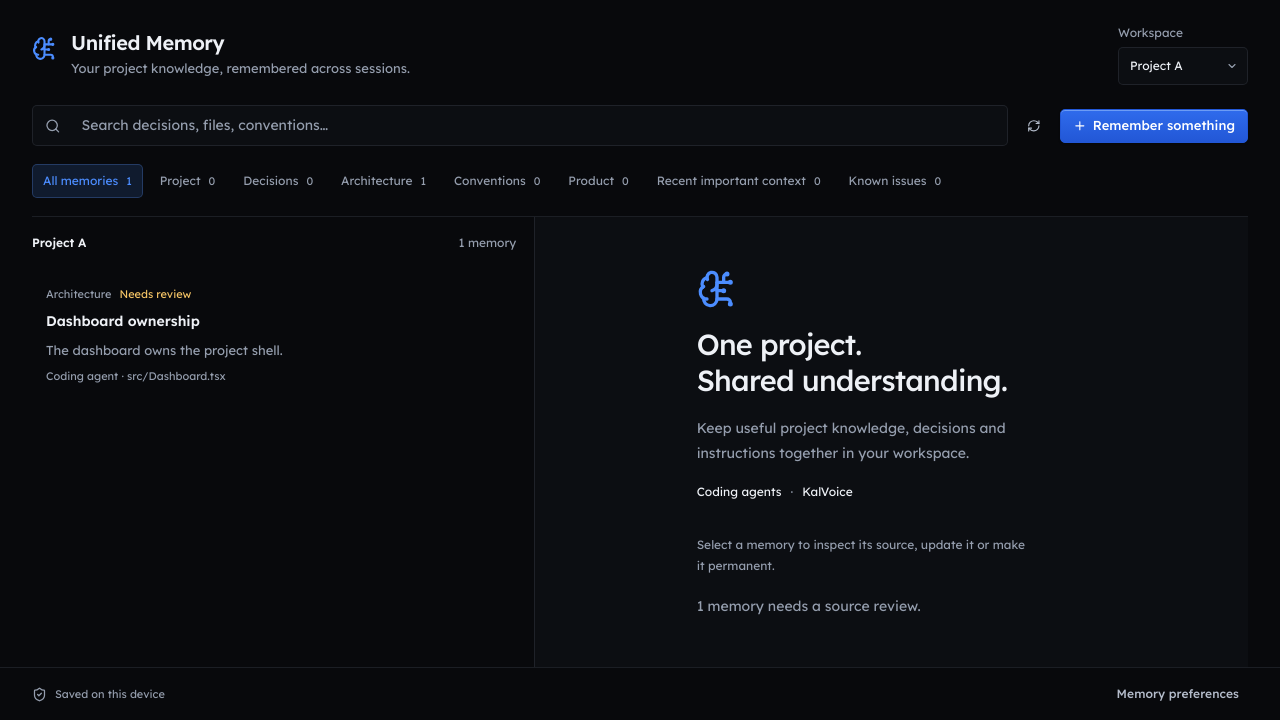
Test case: Unified Memory › explicitly reviews stale knowledge in its workspace and keeps uncertainty on a failed recheck
This screenshot has width=1280, height=720.
Click the button "Dashboard ownership": (79,294) [32,269,518,402]
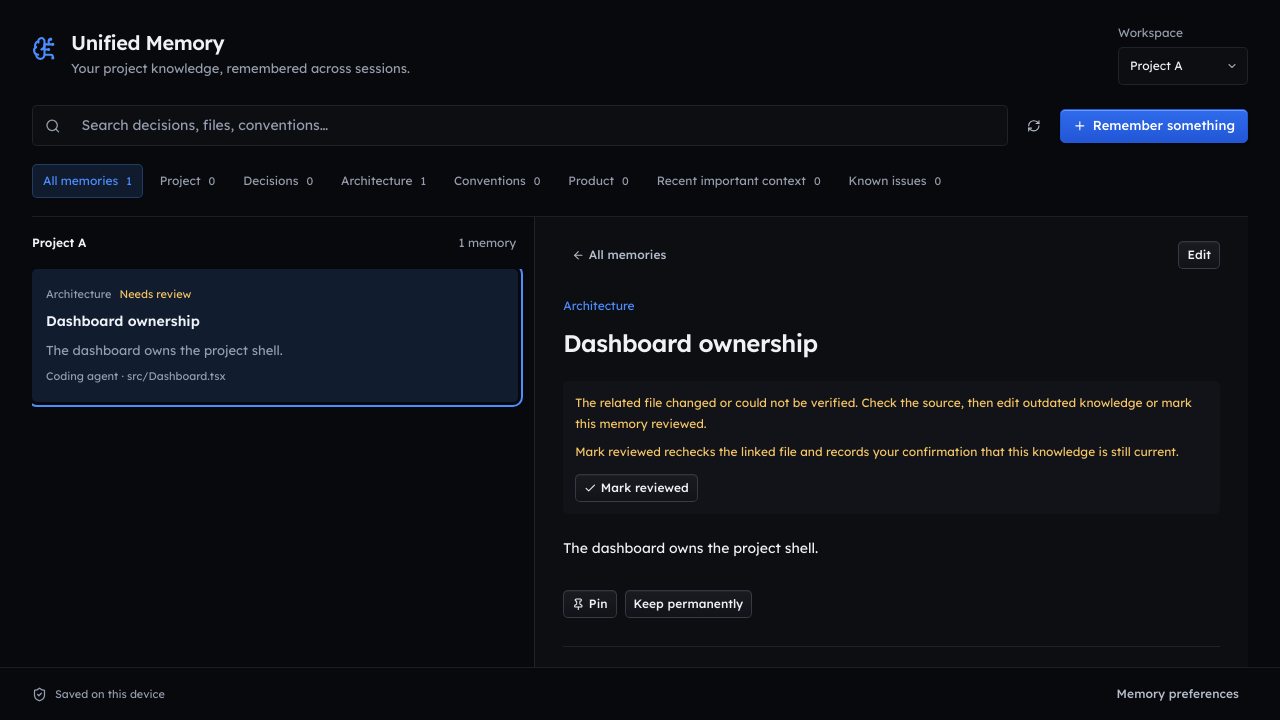
Click the button "Mark reviewed": (637,488) [575,474,698,502]
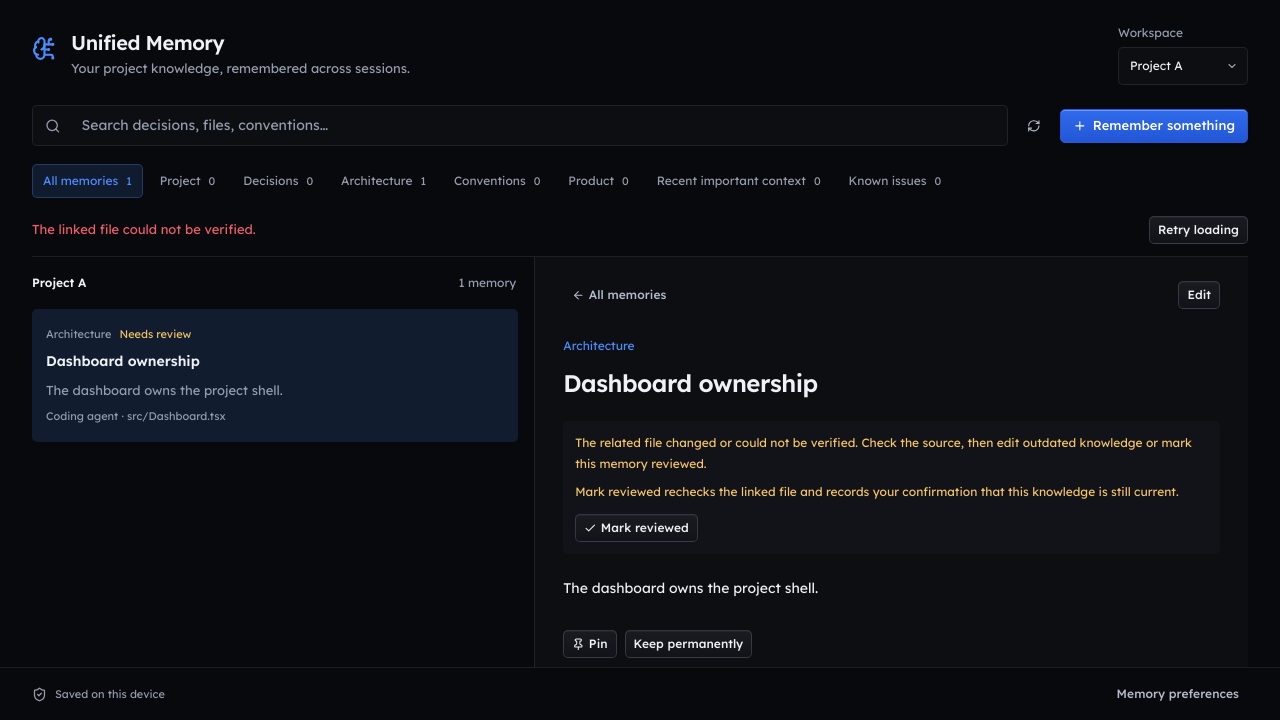
Expected: the text "related file changed or could not be verified" is shown, [575,435,1192,471]
Expected: the message "The linked file could not be verified. Retry loading" is shown, [32,216,1248,244]
Click the button "Mark reviewed": (637,528) [575,514,698,542]
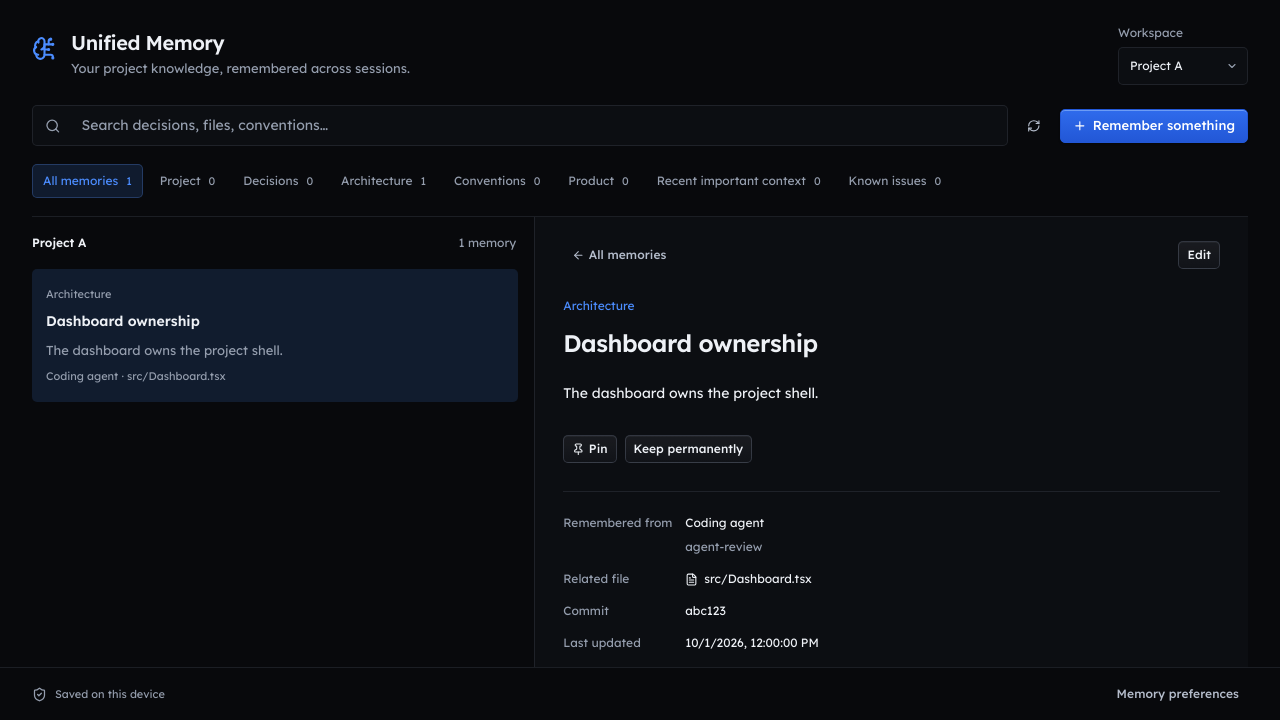
Expected: the element named "Memory details" shows "The dashboard owns the project shell.", [563,384,818,402]
Expected: the text "Mark reviewed" is gone
Expected: the text "related file changed or could not be verified" is gone
